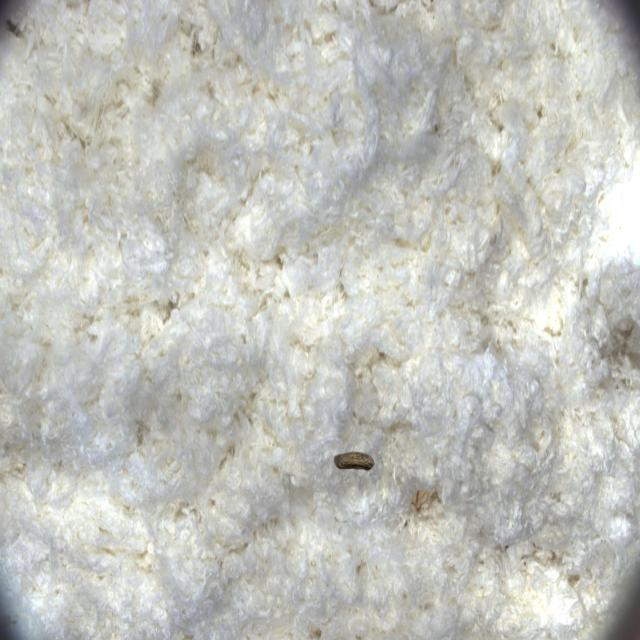dust: (317, 419, 388, 510)
